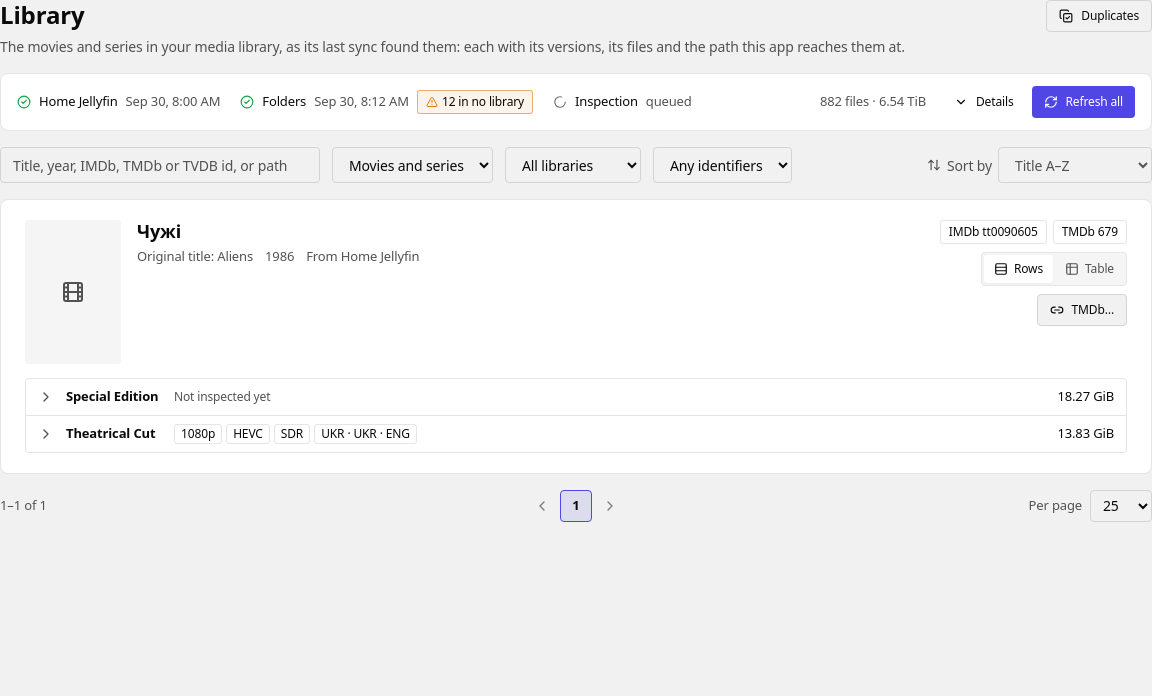
Test case: LibraryPage while the files are inspected › does not ask for the works again while a run only waits or has just started
Later steps or results of the test are not shown.
What coordinates should you click on to do the following:
click the button "Details"
I would click on:
 (984, 102)
Its box is [942,86,1026,118].
Wait 4000 ms
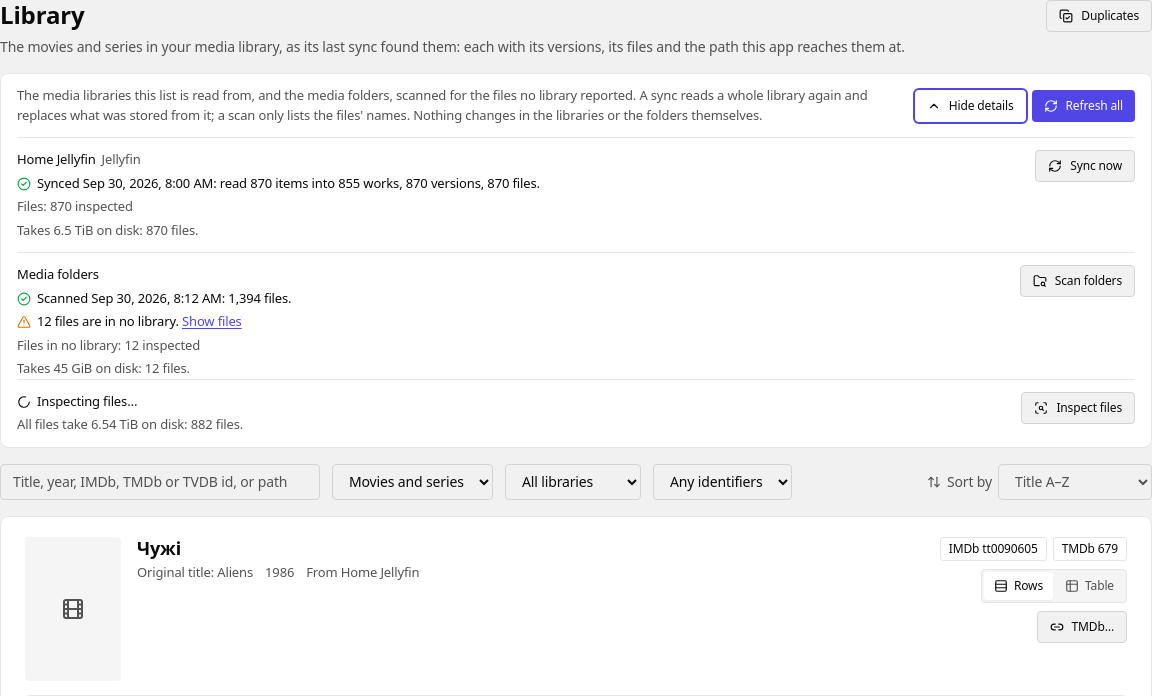
Expected: the heading "Чужі" is shown, [137,536,181,560]
Expected: the text "Inspecting files…" is shown, [37,392,137,411]
